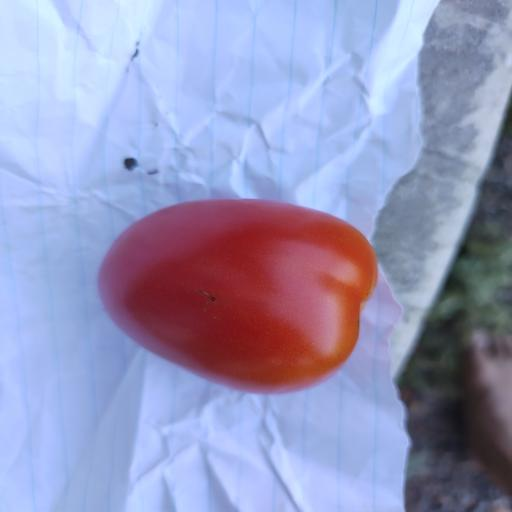ripe: (99, 199, 377, 392)
